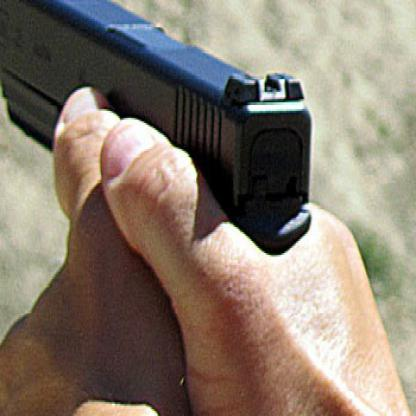gun: (0, 0, 319, 323)
